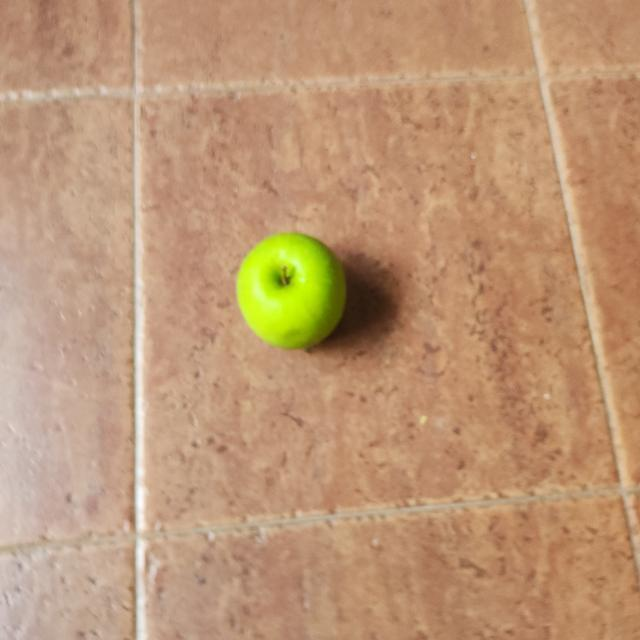apple: (231, 222, 353, 356)
